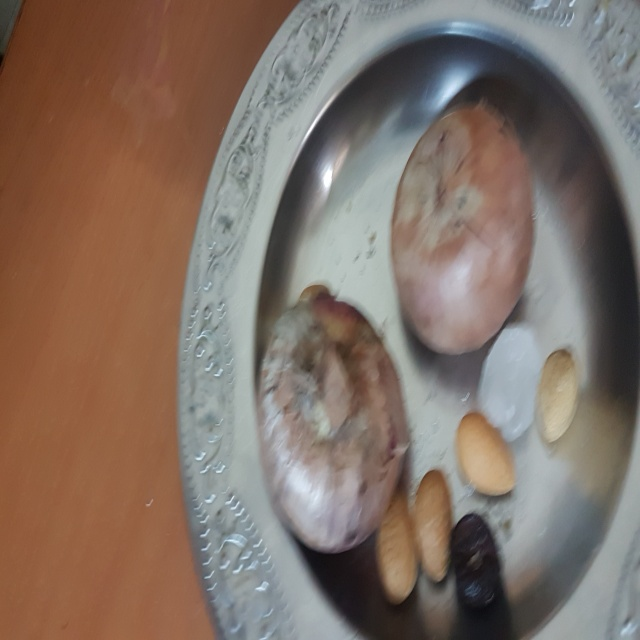onion: (386, 93, 538, 357), (259, 294, 411, 558)
